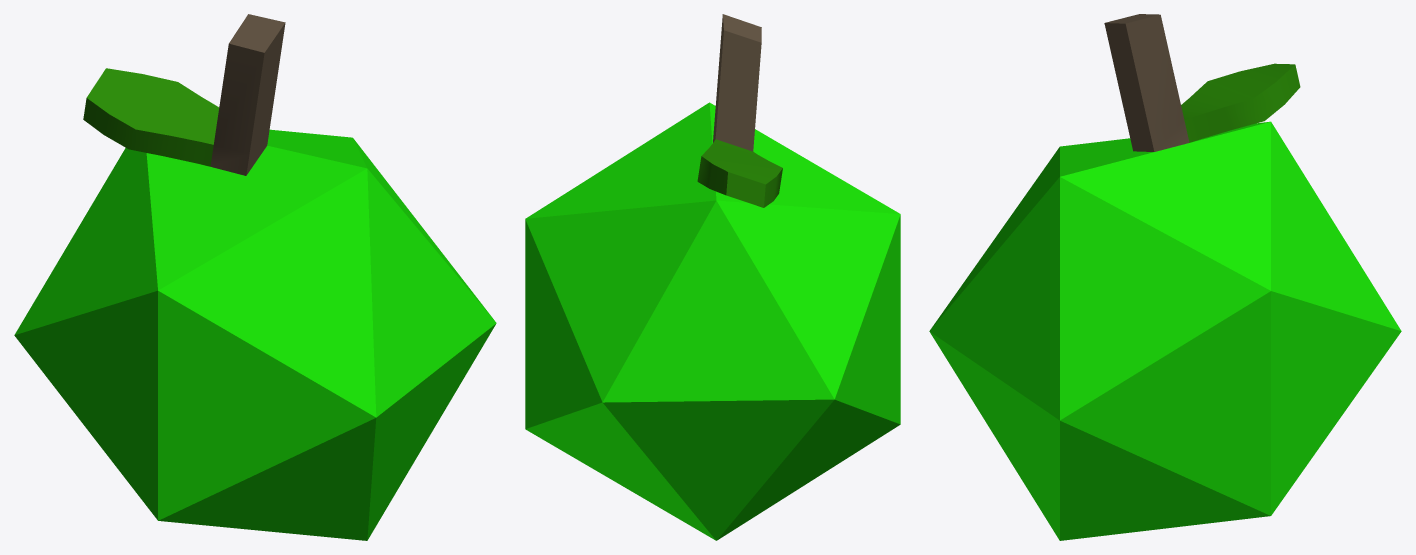
File: GreenFruit.fbx
3 views of the same model, side by side, from view 1: azimuth 30°, elevation 25°; view 2: azimuth 150°, elevation 25°; view 3: azimuth 270°, elevation 25° (orthographic). The views are drawn at different scales.
Visible parts, largest first — view 1: pPlatonic1.012, pPlatonic1.014, pPlatonic1.013; view 2: pPlatonic1.012, pPlatonic1.013, pPlatonic1.014; view 3: pPlatonic1.012, pPlatonic1.013, pPlatonic1.014.
Boxes of the visible parts, bbox=[...] form: pPlatonic1.012: bbox=[14, 129, 496, 540]; pPlatonic1.014: bbox=[83, 68, 219, 166]; pPlatonic1.013: bbox=[210, 14, 285, 175]; pPlatonic1.012: bbox=[525, 102, 900, 540]; pPlatonic1.013: bbox=[713, 14, 761, 151]; pPlatonic1.014: bbox=[697, 139, 782, 207]; pPlatonic1.012: bbox=[929, 121, 1401, 540]; pPlatonic1.013: bbox=[1104, 14, 1189, 151]; pPlatonic1.014: bbox=[1181, 63, 1300, 142].
Bounding box in the file's own units: 52.15 × 67.32 × 58.31.
